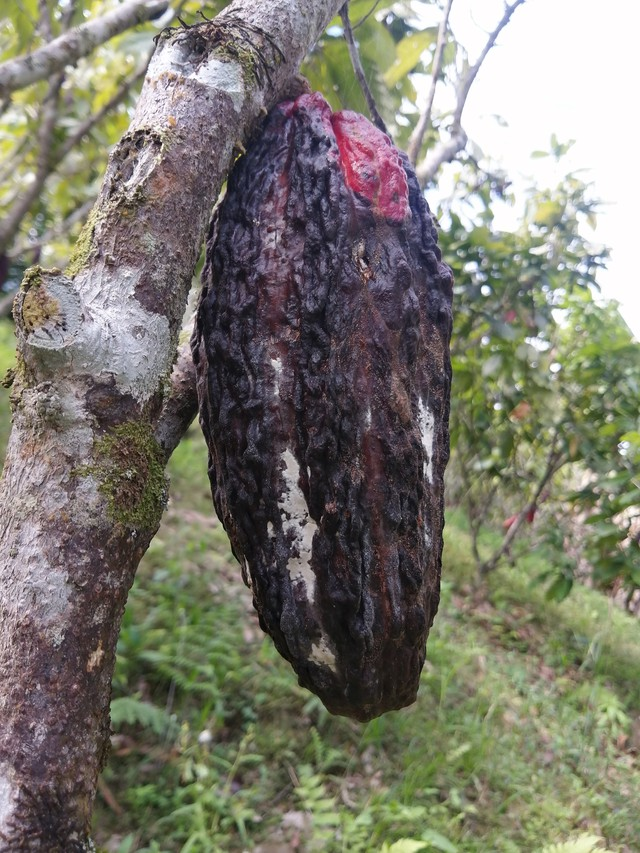moniliophthora roreri: (161, 69, 459, 727)
